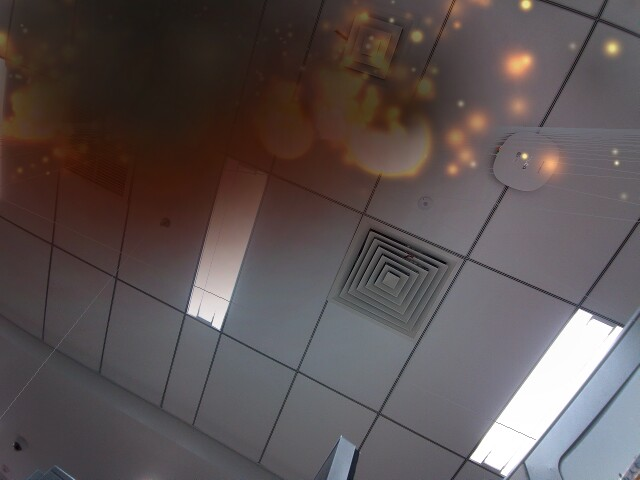fire: (346, 108, 432, 179), (261, 112, 314, 161)
